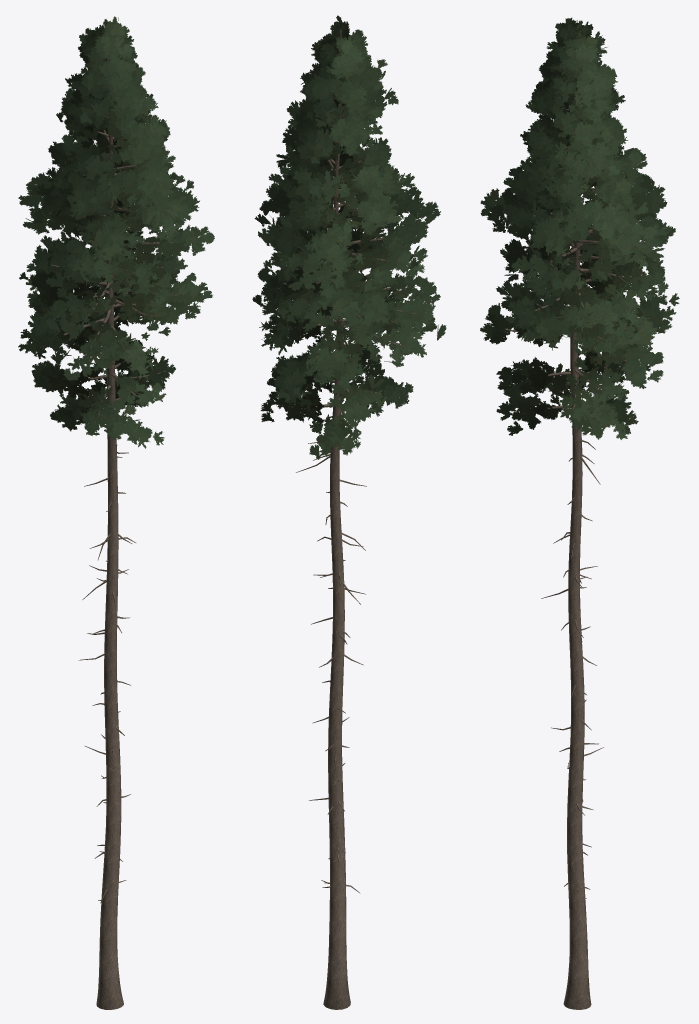
The model's file is pine_b.glb.
3 renders of one model, left to right at view 1: azimuth 30°, elevation 25°; view 2: azimuth 150°, elevation 25°; view 3: azimuth 270°, elevation 25°, orthographic.
Visible parts, largest first — view 1: pine_b; view 2: pine_b; view 3: pine_b.
Part boxes in pixels (left/top/right/bottom): pine_b: left=18, top=16, right=214, bottom=1009; pine_b: left=252, top=15, right=446, bottom=1009; pine_b: left=480, top=17, right=679, bottom=1009.
Size of the model in its own units: 4.34 by 23.26 by 4.45.
2 materials, 2 textured.
